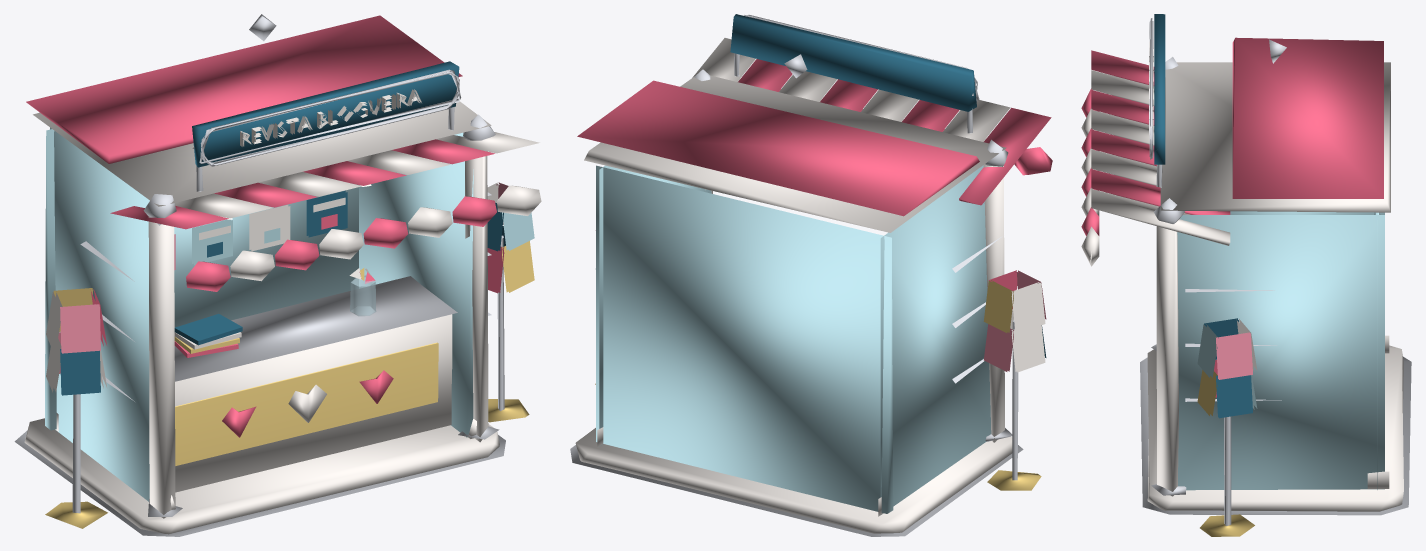
File: lod_magazine_kiosk.glb
3 views of the same model, side by side, from view 1: azimuth 30°, elevation 25°; view 2: azimuth 150°, elevation 25°; view 3: azimuth 270°, elevation 25° (orthographic). The views are drawn at different scales.
Parts seen in each view (by area): view 1: magazine_kiosk; view 2: magazine_kiosk; view 3: magazine_kiosk.
Boxes of the visible parts, x1,y1,x2,y2 form: magazine_kiosk: (14, 14, 541, 536); magazine_kiosk: (570, 14, 1052, 536); magazine_kiosk: (1081, 14, 1411, 536).
Size of the model in its own units: 4.2 by 3.59 by 2.73.
